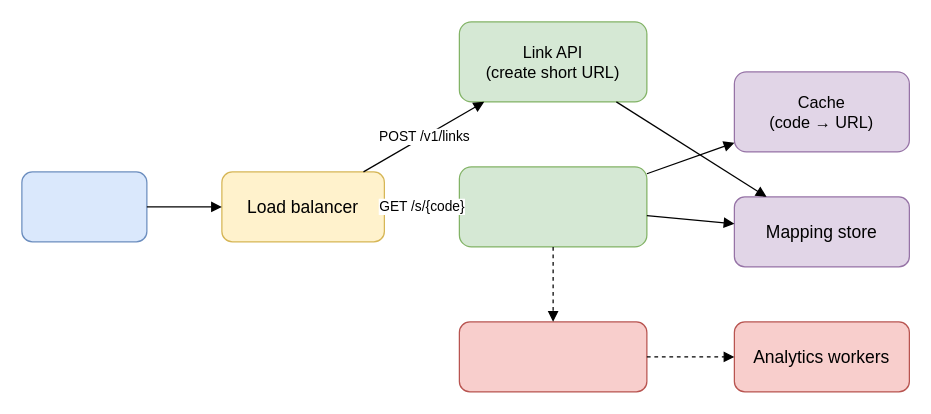
Image size: 931x414. Some labels were removed from this diagram. The shapes that lost their labels are listed below. From the top down, each one's centre as x and y in pixels, then its label:
(84,206): User
(552,206): Redirect service
(552,356): Click events
